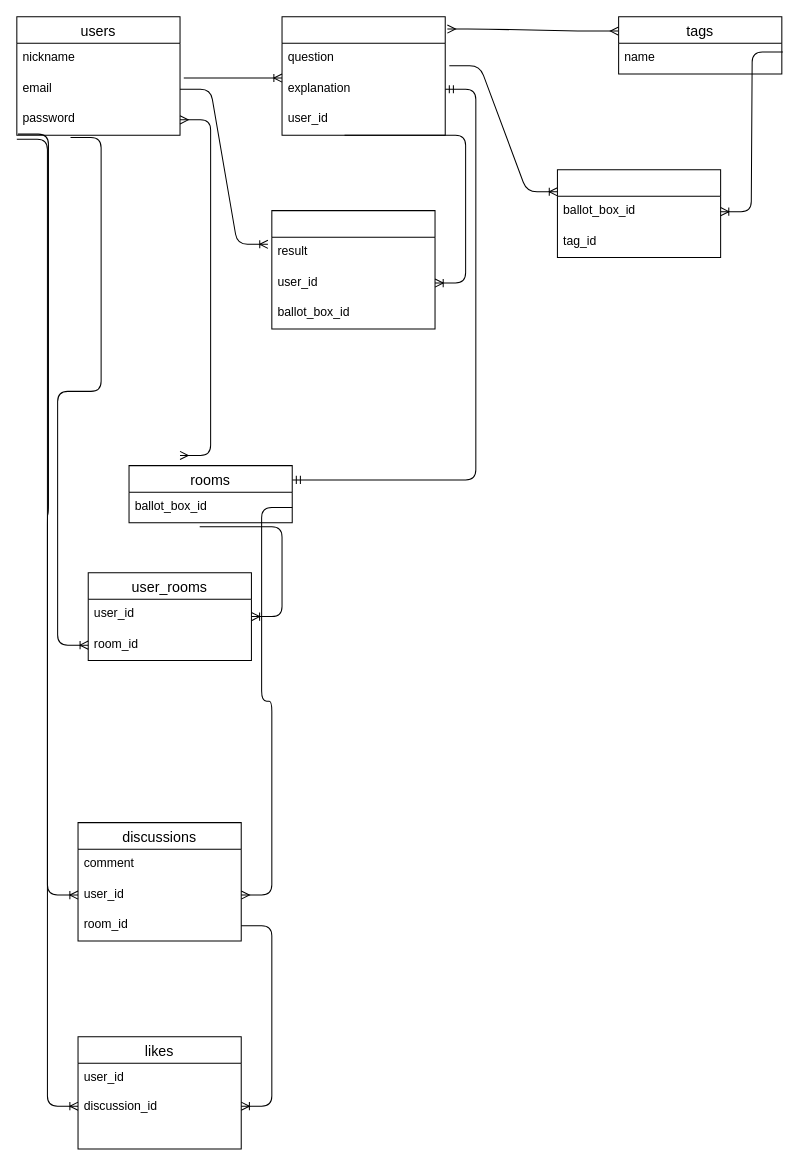
This 800x1166 diagram has some shape labels left out. Here are the shapes that lost their labels. From the top down, the box of each, then its label:
(281, 16, 445, 135): ballot_boxes
(556, 169, 721, 258): ballot_tags
(271, 210, 435, 329): votes
